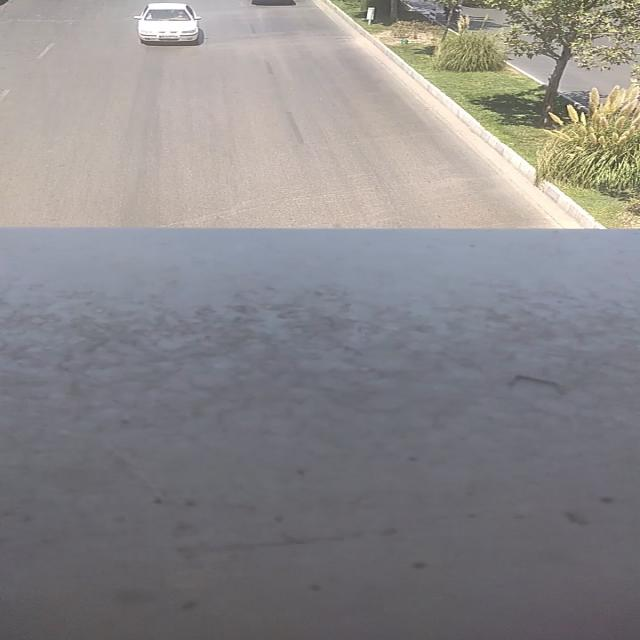car: (133, 1, 203, 44)
